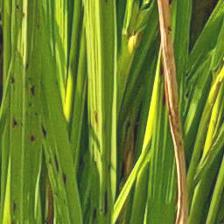2 BacterialBlight: (158, 5, 194, 222)
